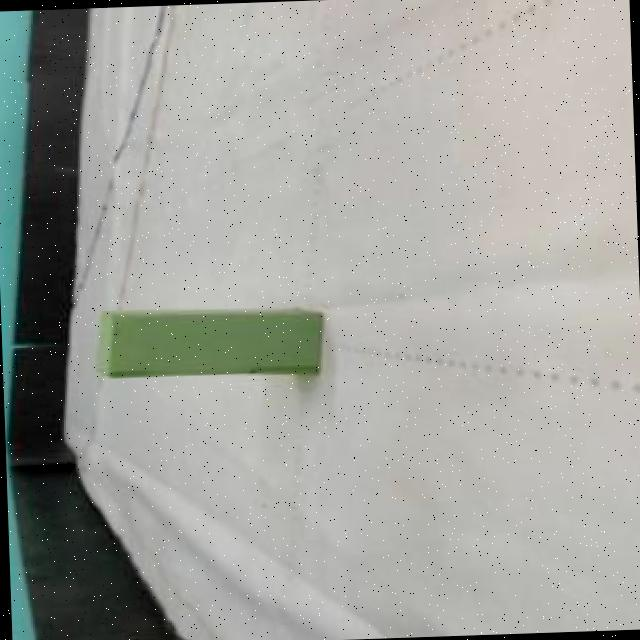greenbox: (85, 296, 328, 386)
